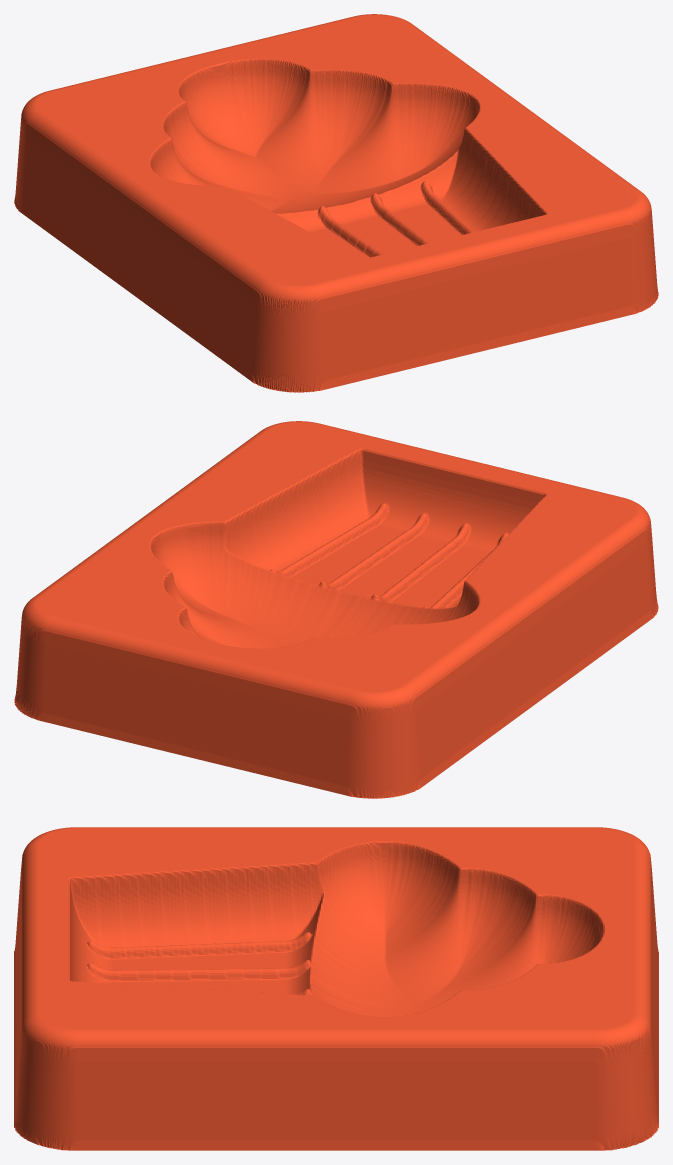
File: mold.glb
3 renders of one model, top to bottom at view 1: azimuth 30°, elevation 25°; view 2: azimuth 150°, elevation 25°; view 3: azimuth 270°, elevation 25°, orthographic. The views are drawn at different scales.
Parts seen in each view (by area): view 1: geometry_0; view 2: geometry_0; view 3: geometry_0.
Part boxes in pixels (bbox=[...]): geometry_0: bbox=[14, 14, 658, 392]; geometry_0: bbox=[14, 421, 658, 798]; geometry_0: bbox=[14, 827, 658, 1150].
Bounding box in the file's own units: 0.0752 × 0.0175 × 0.0924.
